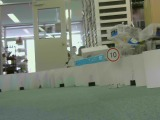speed_10: (106, 47, 120, 62)
